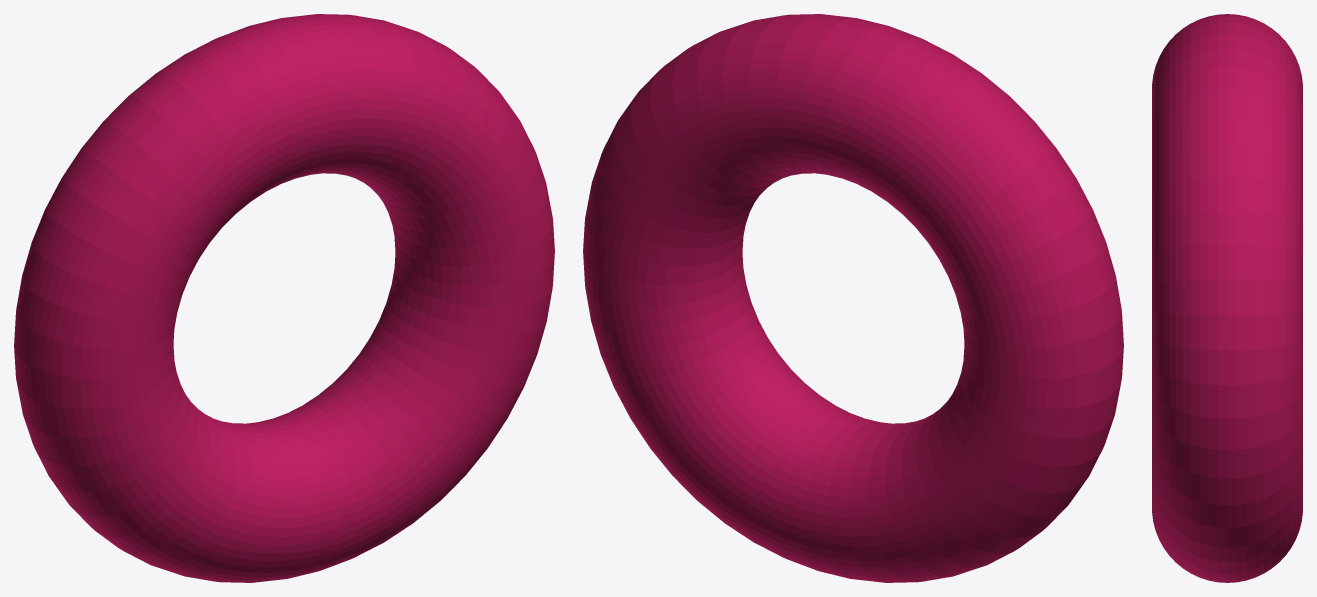
3 renders of one model, left to right at view 1: azimuth 30°, elevation 25°; view 2: azimuth 150°, elevation 25°; view 3: azimuth 270°, elevation 25°, orthographic. The views are drawn at different scales.
Parts seen in each view (by area): view 1: world; view 2: world; view 3: world.
Part boxes in pixels (x1,y1,x2,y2): world: [14, 14, 554, 582]; world: [583, 14, 1123, 582]; world: [1152, 14, 1302, 582].
Bounding box in the file's own units: 33.6 × 33.53 × 8.92.
